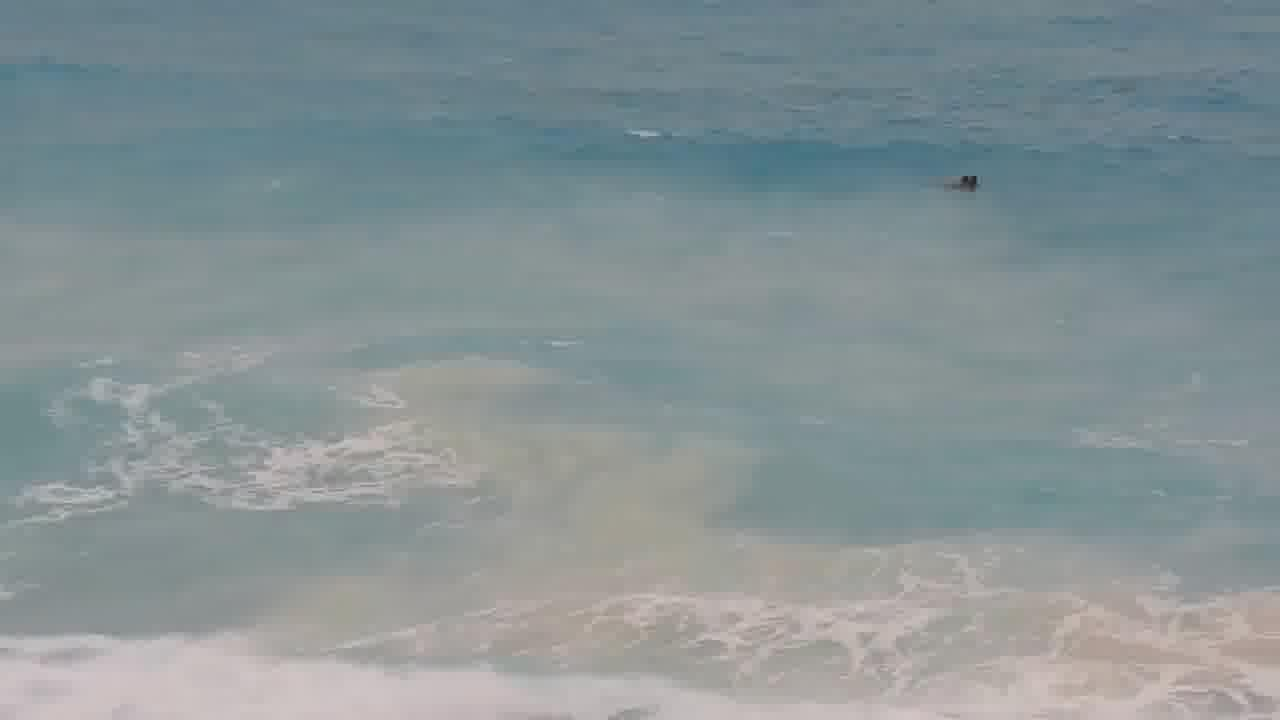swimmer: (949, 165, 980, 199)
